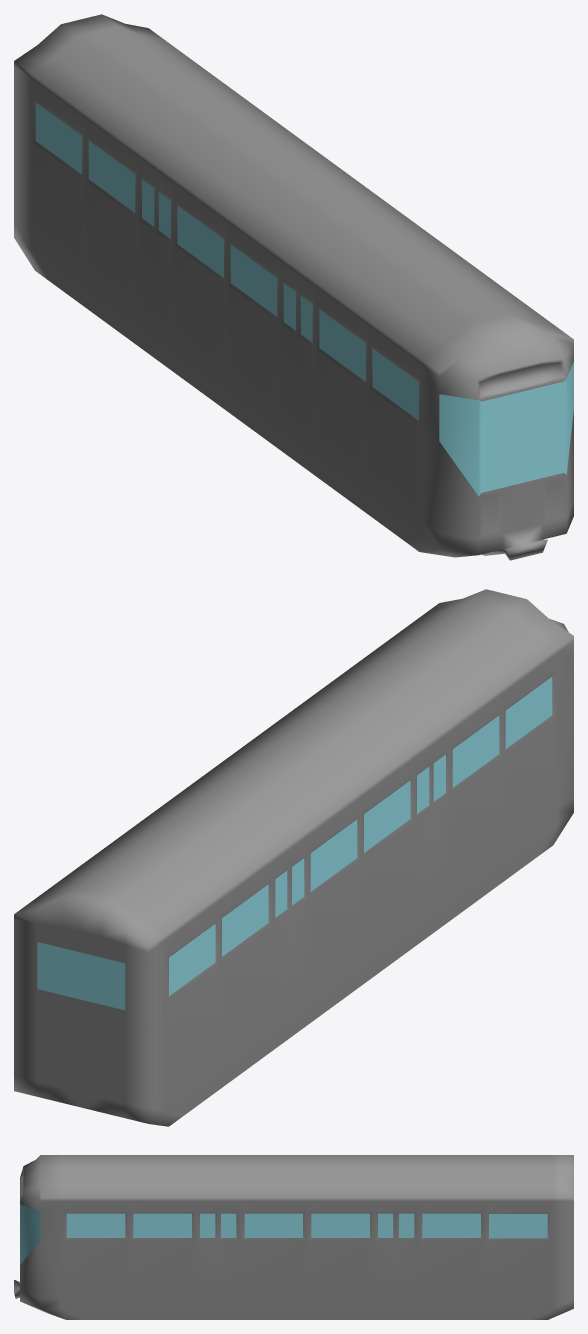
Rendered from wagon.FBX.
3 views of the same model, one above another, from view 1: azimuth 30°, elevation 25°; view 2: azimuth 150°, elevation 25°; view 3: azimuth 270°, elevation 25° (orthographic). The views are drawn at different scales.
Parts seen in each view (by area): view 1: Box015; view 2: Box015; view 3: Box015.
Boxes of the visible parts, x1,y1,x2,y2 form: Box015: (14,14,573,560); Box015: (14,589,573,1126); Box015: (14,1155,573,1319).
Size of the model in its own units: 22.39 by 35.28 by 129.
